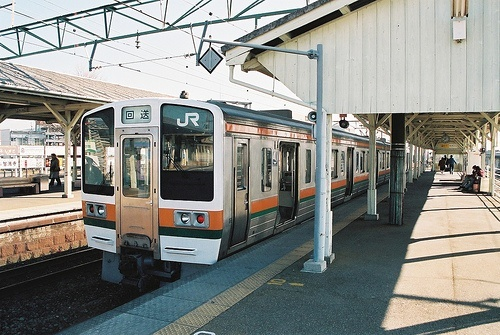train: (79, 96, 392, 300)
